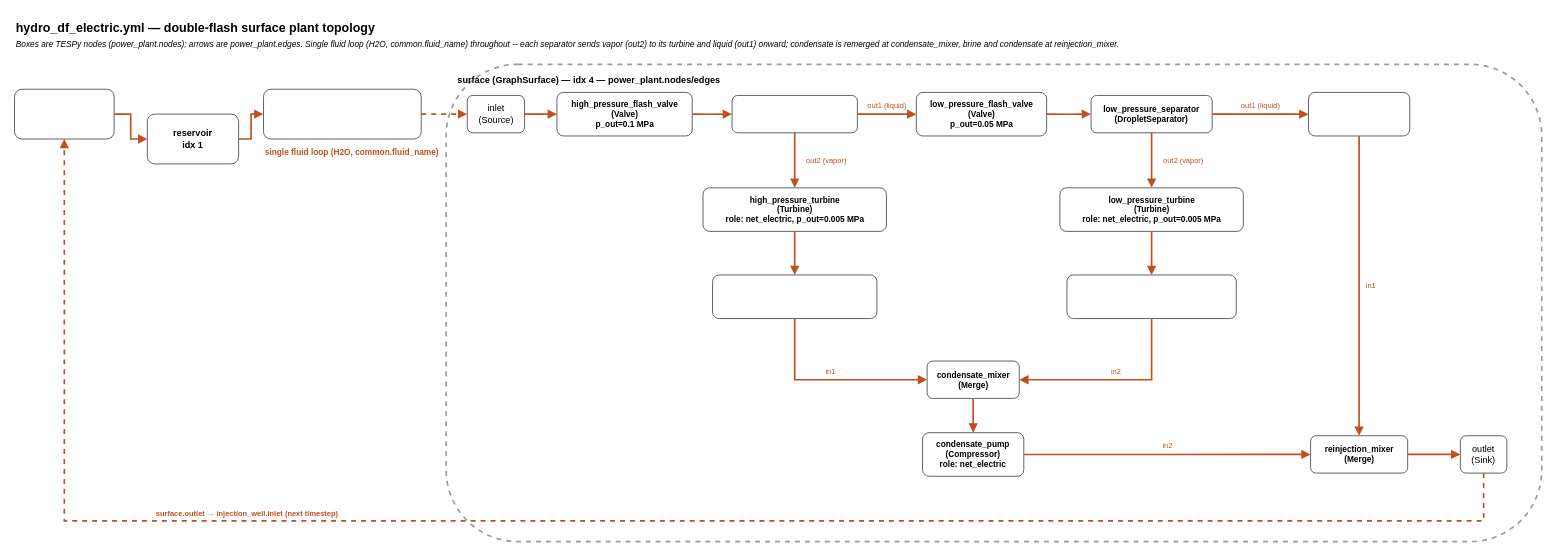
Some shapes in this 1557 by 556 pixel diagram are drawn without their labels. The centre of each missing label's shape, as x and y in pixels:
"brine_pump (Compressor) role: net_electric" belongs at [1359,114].
"high_pressure_condenser (SimpleHeatExchanger) p_out=0.005 MPa, subcooling_K=1" belongs at [794,296].
"high_pressure_separator (DropletSeparator)" belongs at [794,114].
"injection_well component_idx 0" belongs at [64,113].
"low_pressure_condenser (SimpleHeatExchanger) subcooling_K=1 (p_out via mixer)" belongs at [1151,296].
"production_well_lower → _upper idx 2 → 3, pump in upper" belongs at [342,113].
